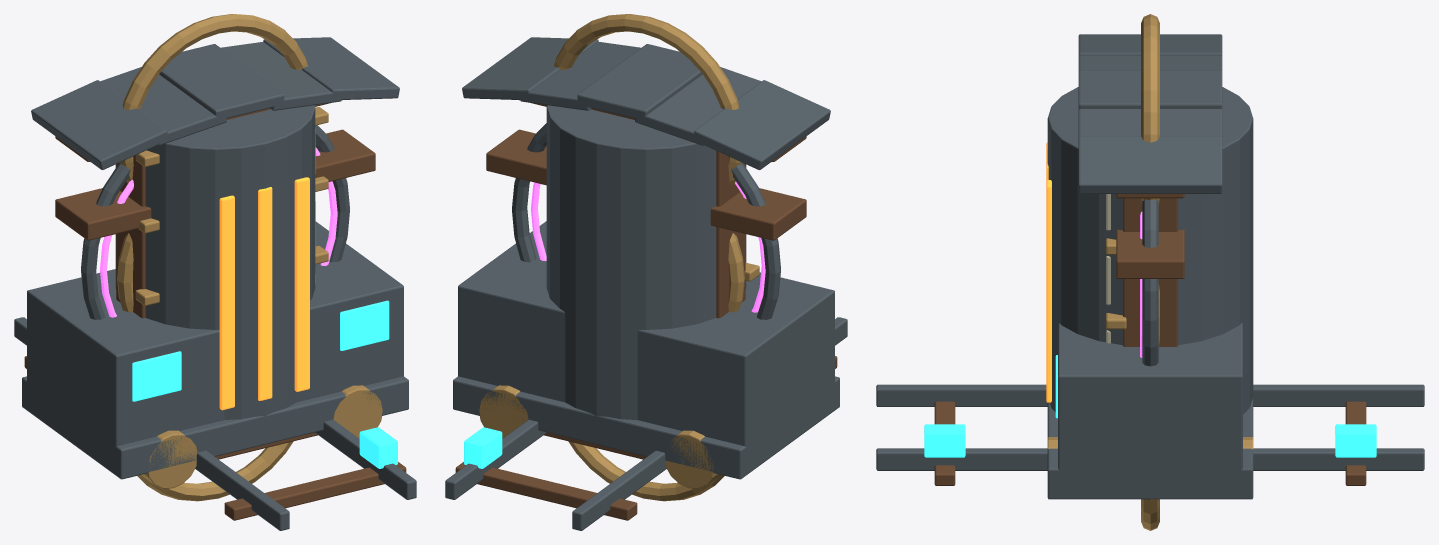
Rendered from late_kit_v10.glb.
The picture shows the model from 3 angles, left to right: view 1: azimuth 30°, elevation 25°; view 2: azimuth 150°, elevation 25°; view 3: azimuth 270°, elevation 25°; orthographic projection. The views are drawn at different scales.
Parts seen in each view (by area): view 1: FurnaceTower, TrainCar, EasternRoof, CrownThrone, MagneticRail, RiftPortal, ArchiveShelf; view 2: FurnaceTower, TrainCar, EasternRoof, CrownThrone, MagneticRail, RiftPortal, ArchiveShelf; view 3: FurnaceTower, TrainCar, EasternRoof, MagneticRail, ArchiveShelf, CrownThrone, RiftPortal.
Boxes of the visible parts, x1,y1,x2,y2 form: FurnaceTower: (115, 14, 315, 501); TrainCar: (27, 221, 403, 488); EasternRoof: (31, 37, 399, 240); CrownThrone: (22, 376, 408, 479); MagneticRail: (14, 317, 416, 530); RiftPortal: (81, 125, 349, 319); ArchiveShelf: (116, 107, 328, 318); FurnaceTower: (546, 14, 746, 501); TrainCar: (458, 221, 834, 488); EasternRoof: (462, 37, 830, 240); CrownThrone: (453, 376, 839, 479); MagneticRail: (445, 317, 847, 530); RiftPortal: (512, 123, 780, 319); ArchiveShelf: (716, 151, 759, 318); FurnaceTower: (1046, 14, 1253, 530); TrainCar: (1047, 323, 1253, 499); EasternRoof: (1078, 34, 1222, 278); MagneticRail: (876, 384, 1424, 485); ArchiveShelf: (1106, 194, 1177, 346); CrownThrone: (1047, 398, 1253, 499); RiftPortal: (1140, 199, 1158, 366).
Size of the model in its own units: 5.2 by 7.98 by 8.
